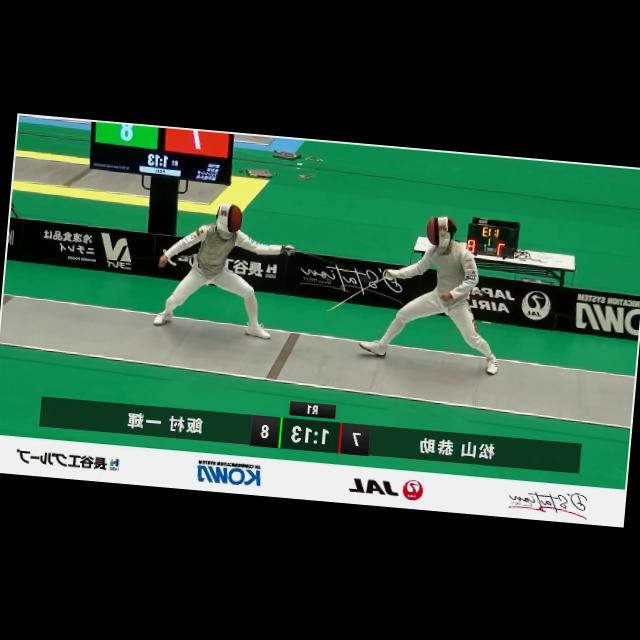blade: (322, 266, 395, 322), (278, 244, 368, 286)
